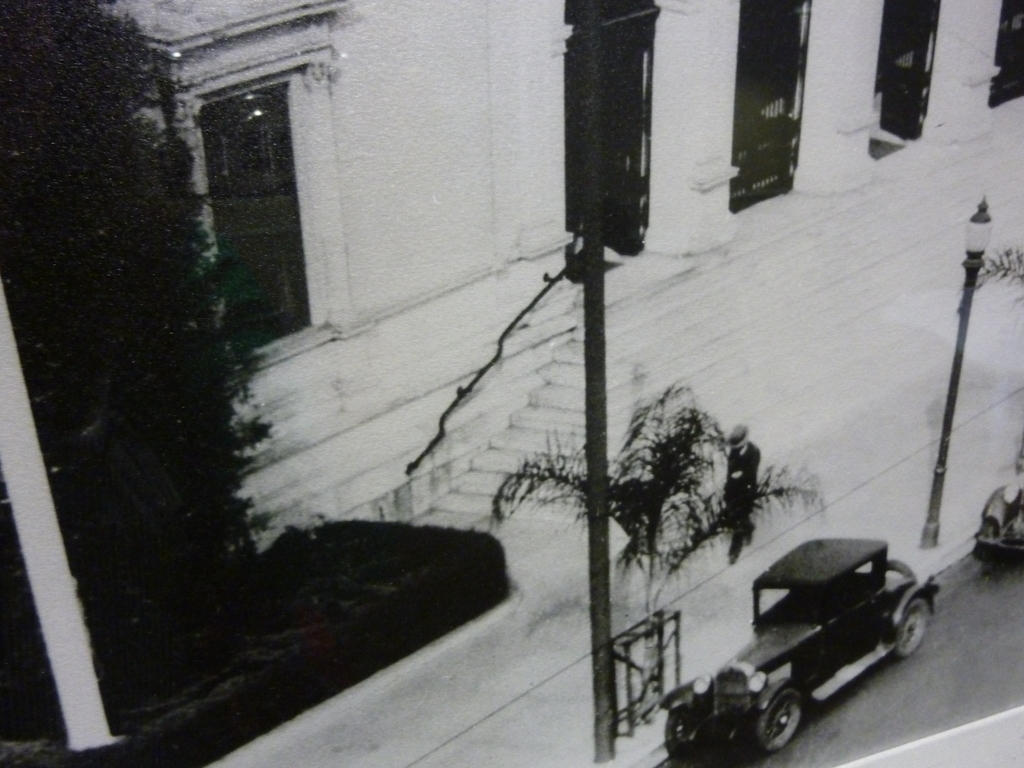Car: (659, 538, 940, 764), (967, 433, 1023, 566)
